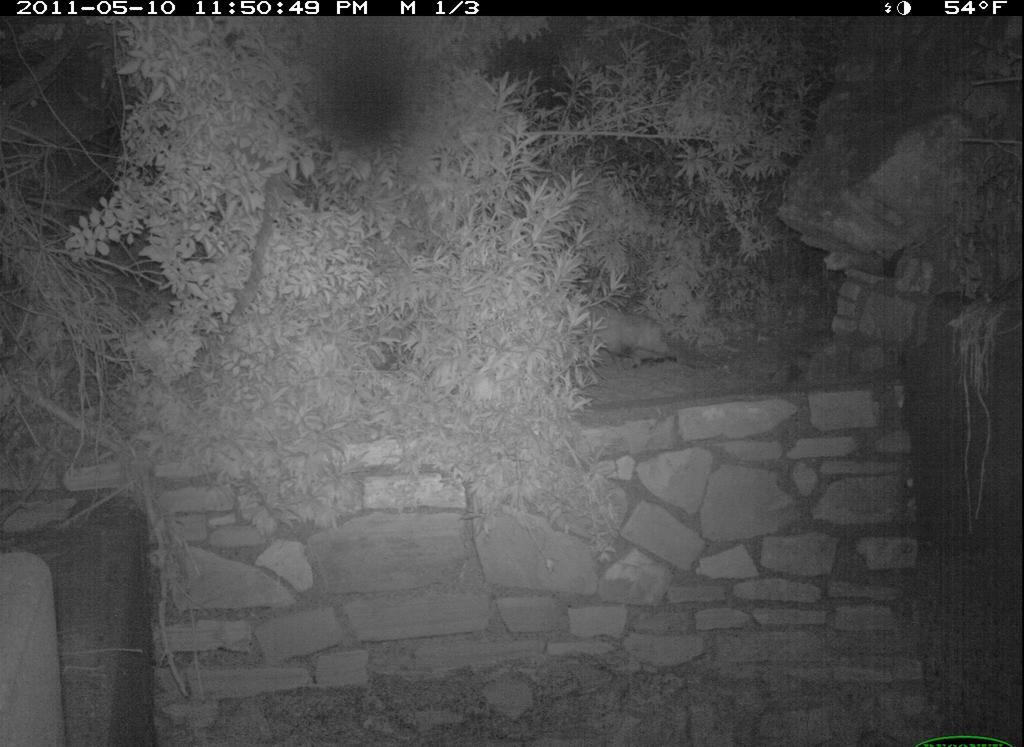opossum: (562, 294, 692, 374)
